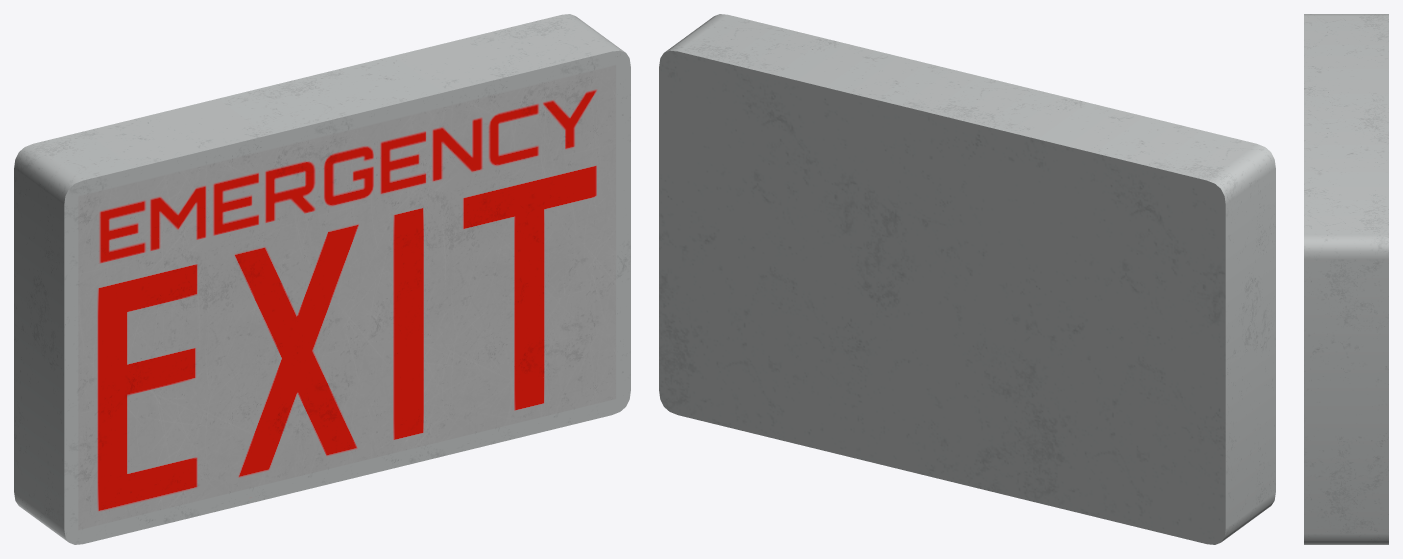
File: SignEmergencyExit.fbx
3 renders of one model, left to right at view 1: azimuth 30°, elevation 25°; view 2: azimuth 150°, elevation 25°; view 3: azimuth 270°, elevation 25°, orthographic. The views are drawn at different scales.
Visible parts, largest first — view 1: SignEmergencyExit; view 2: SignEmergencyExit; view 3: SignEmergencyExit.
Boxes of the visible parts, x1,y1,x2,y2 form: SignEmergencyExit: (14, 14, 630, 544); SignEmergencyExit: (659, 14, 1275, 544); SignEmergencyExit: (1304, 14, 1388, 544).
Bounding box in the file's own units: 30 × 18.4 × 4.6.
